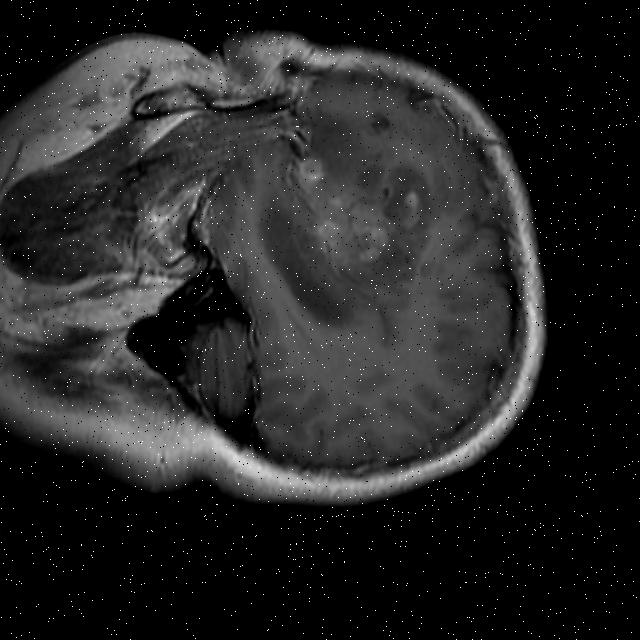Glioma: (291, 139, 430, 272)
